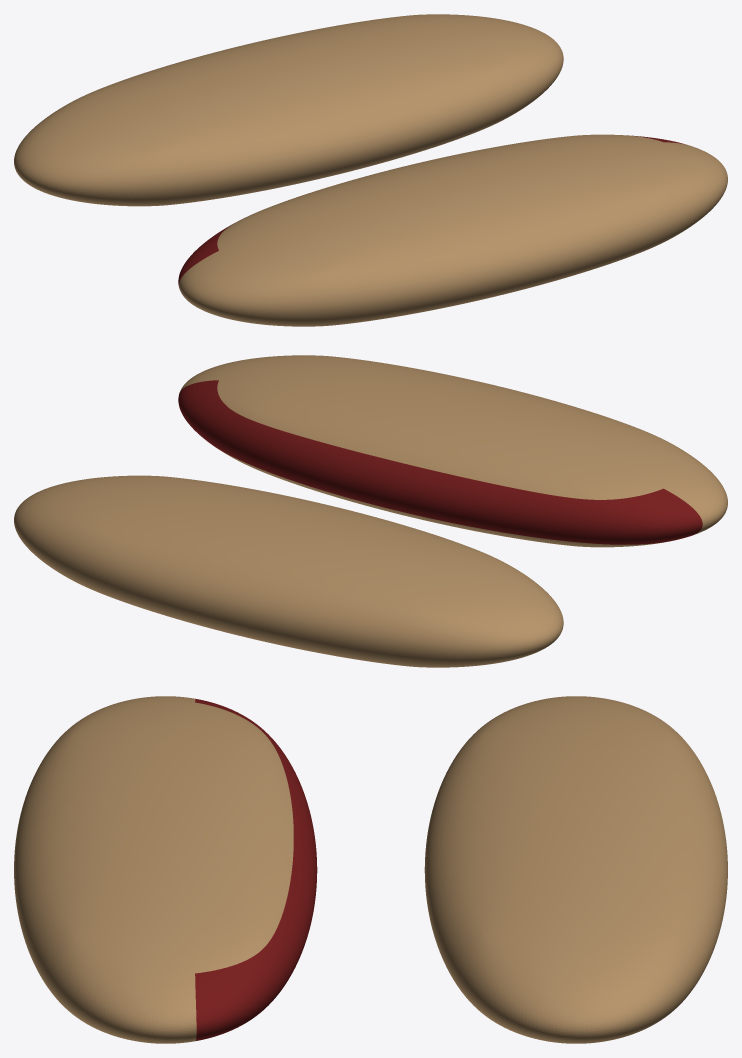
The model's file is Sliced Chicken.fbx.
3 views of the same model, one above another, from view 1: azimuth 30°, elevation 25°; view 2: azimuth 150°, elevation 25°; view 3: azimuth 270°, elevation 25° (orthographic). The views are drawn at different scales.
Visible parts, largest first — view 1: Cube, Cube.001; view 2: Cube, Cube.001; view 3: Cube, Cube.001.
Part boxes in pixels (x1,y1,x2,y2): Cube: (178,134,727,326); Cube.001: (14,14,563,206); Cube: (178,355,727,547); Cube.001: (14,475,563,667); Cube: (14,696,317,1043); Cube.001: (424,696,727,1043).
Bounding box in the file's own units: 247 × 39.74 × 229.
